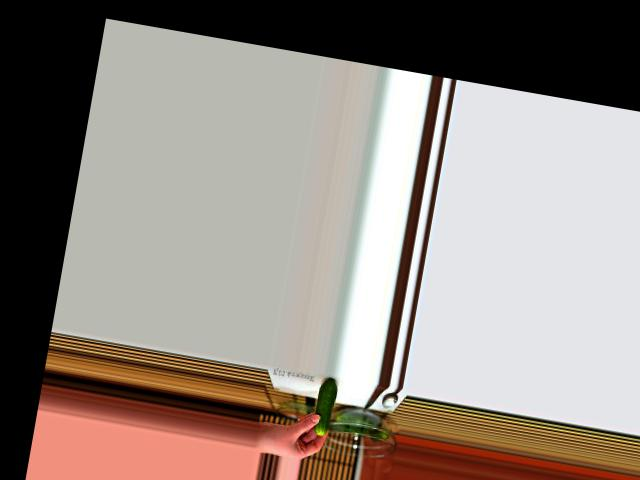cucumber: (311, 376, 339, 436)
